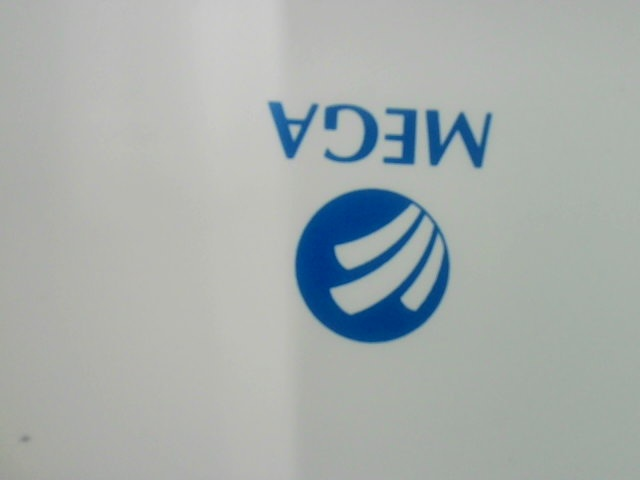AM_ZTEMEGA: (252, 91, 534, 364)
